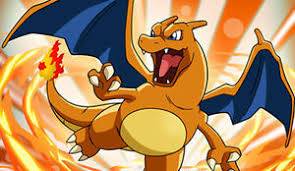charizard: (4, 1, 290, 169)
